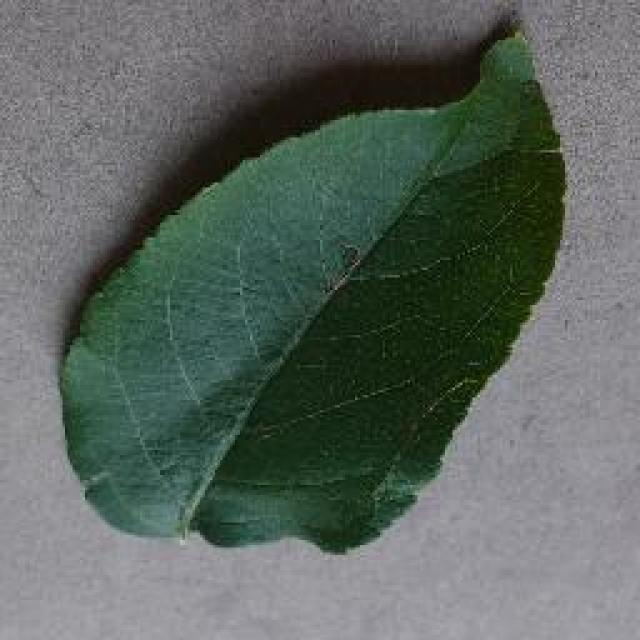apple healthy: (55, 17, 570, 555)
